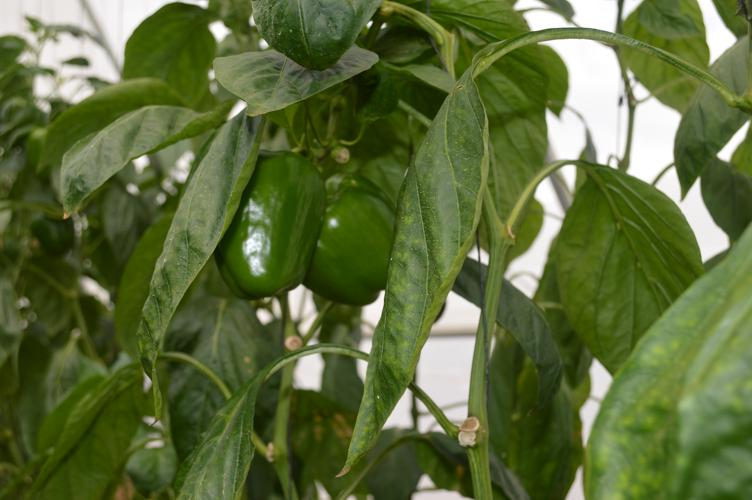BellPepper: (211, 151, 321, 302), (313, 178, 393, 308)
